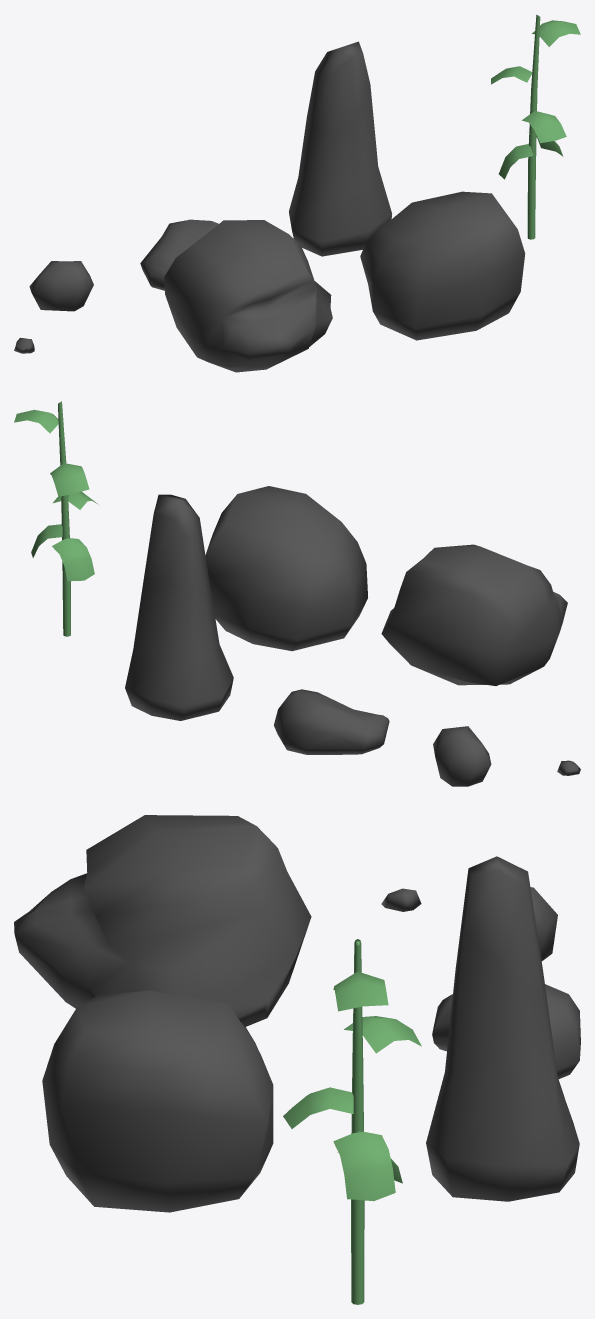
File: Nature FBX.fbx
3 views of the same model, one above another, from view 1: azimuth 30°, elevation 25°; view 2: azimuth 150°, elevation 25°; view 3: azimuth 270°, elevation 25° (orthographic). The views are drawn at different scales.
Visible parts, largest first — view 1: Rock_Medium, Rock_Broken, Rock_Tall, Bamboo, Rock_Small, Rock_Sloped; view 2: Rock_Medium, Rock_Broken, Rock_Tall, Rock_Sloped, Bamboo, Rock_Small; view 3: Rock_Broken, Rock_Medium, Rock_Tall, Bamboo, Rock_Sloped, Rock_Small, Rock_Smallest.
Boxes of the visible parts, x1=… form: Rock_Medium: x1=360, y1=191, x2=525, y2=340; Rock_Broken: x1=164, y1=220, x2=332, y2=372; Rock_Tall: x1=289, y1=41, x2=391, y2=256; Bamboo: x1=491, y1=14, x2=580, y2=239; Rock_Small: x1=29, y1=261, x2=93, y2=311; Rock_Sloped: x1=140, y1=219, x2=218, y2=290; Rock_Medium: x1=205, y1=486, x2=367, y2=651; Rock_Broken: x1=381, y1=544, x2=567, y2=685; Rock_Tall: x1=125, y1=494, x2=233, y2=720; Rock_Sloped: x1=274, y1=689, x2=389, y2=754; Bamboo: x1=14, y1=401, x2=98, y2=636; Rock_Small: x1=433, y1=726, x2=491, y2=786; Rock_Broken: x1=14, y1=815, x2=311, y2=1026; Rock_Medium: x1=42, y1=990, x2=273, y2=1212; Rock_Tall: x1=426, y1=856, x2=579, y2=1201; Bamboo: x1=283, y1=939, x2=421, y2=1304; Rock_Sloped: x1=432, y1=984, x2=580, y2=1078; Rock_Small: x1=530, y1=887, x2=557, y2=961; Rock_Smallest: x1=381, y1=888, x2=421, y2=911.
Bounding box in the file's own units: 682 × 266 × 368.
